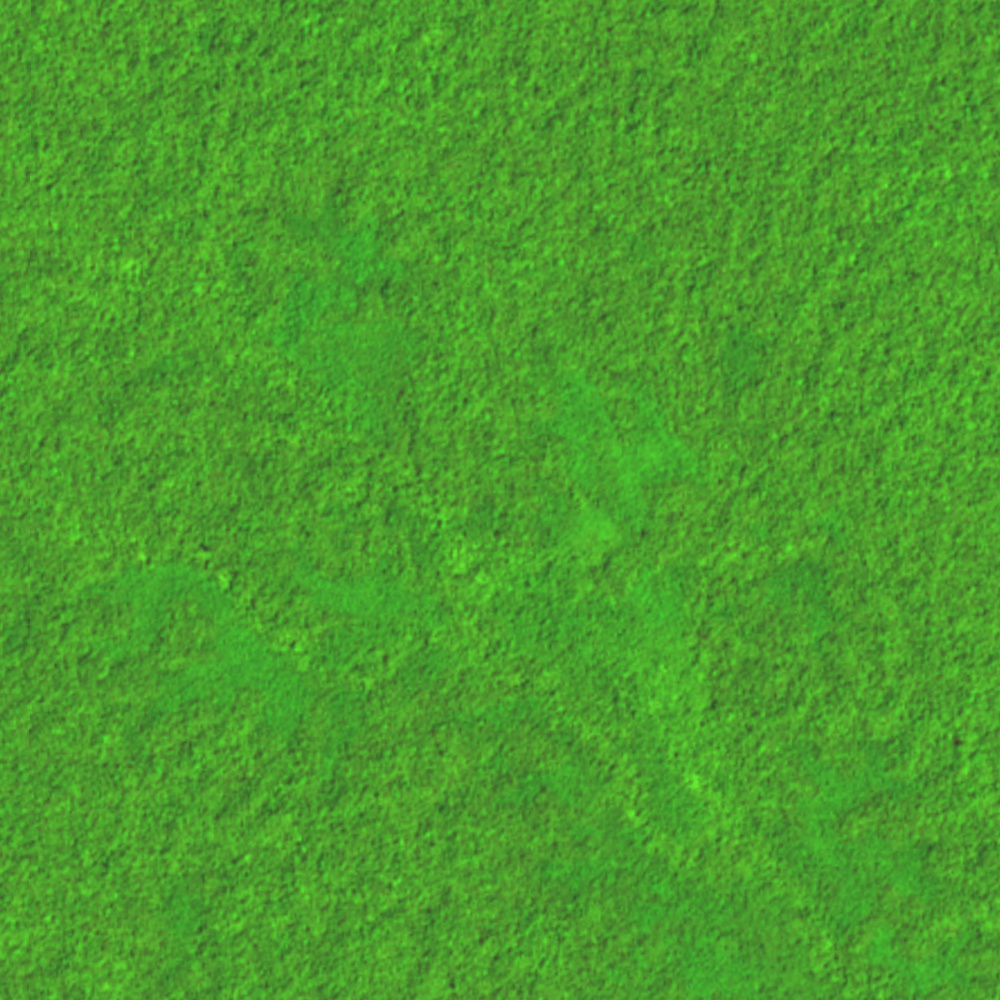illegal: (194, 544, 236, 595)
